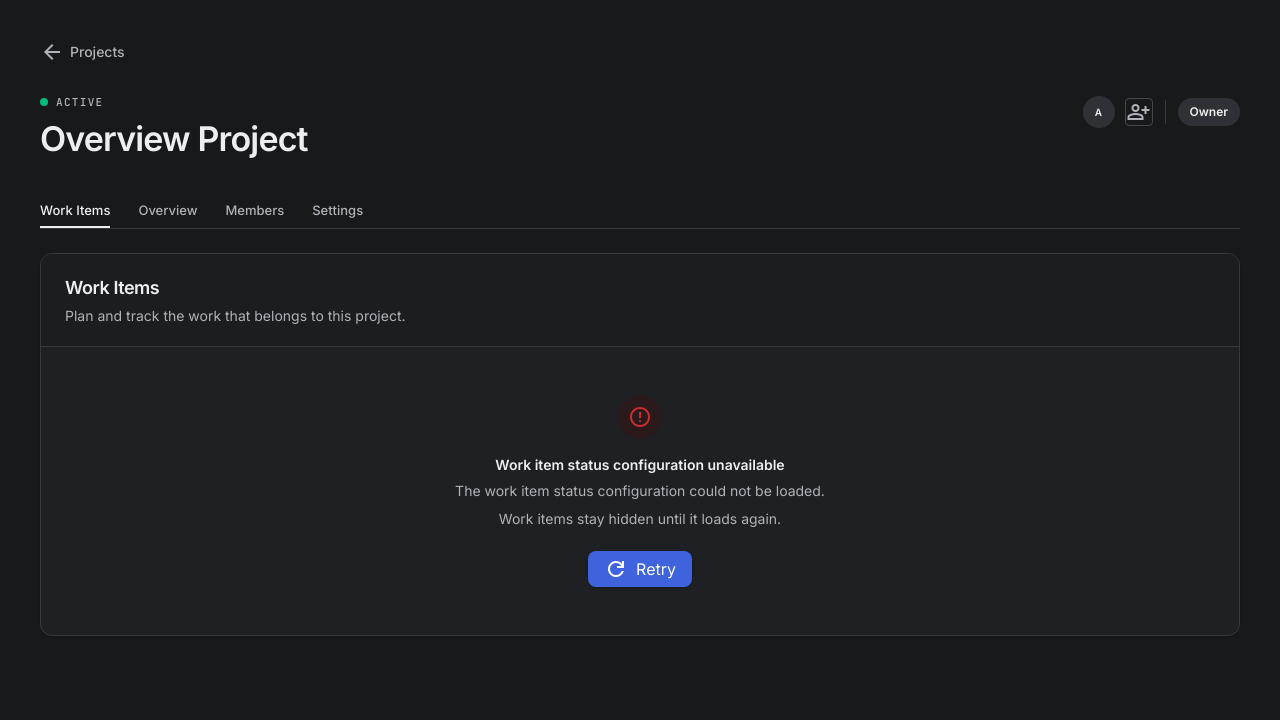
Test: Project Work Items status configuration safety › recovers through Retry: the configuration is fetched again and the item lands in its real column
Click the button "Retry" at (640, 569), box [588,551,692,587]
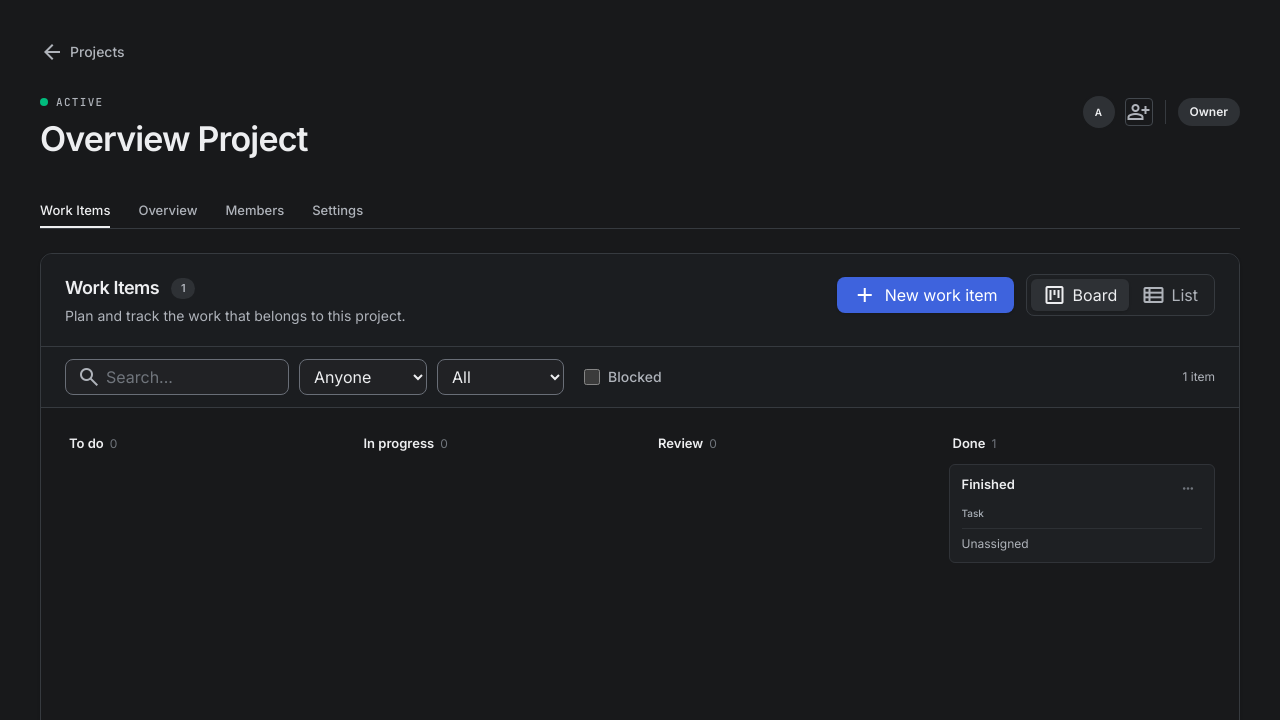
Result: the button with aria-label "Open Finished" is shown at [948,464,1215,563]
